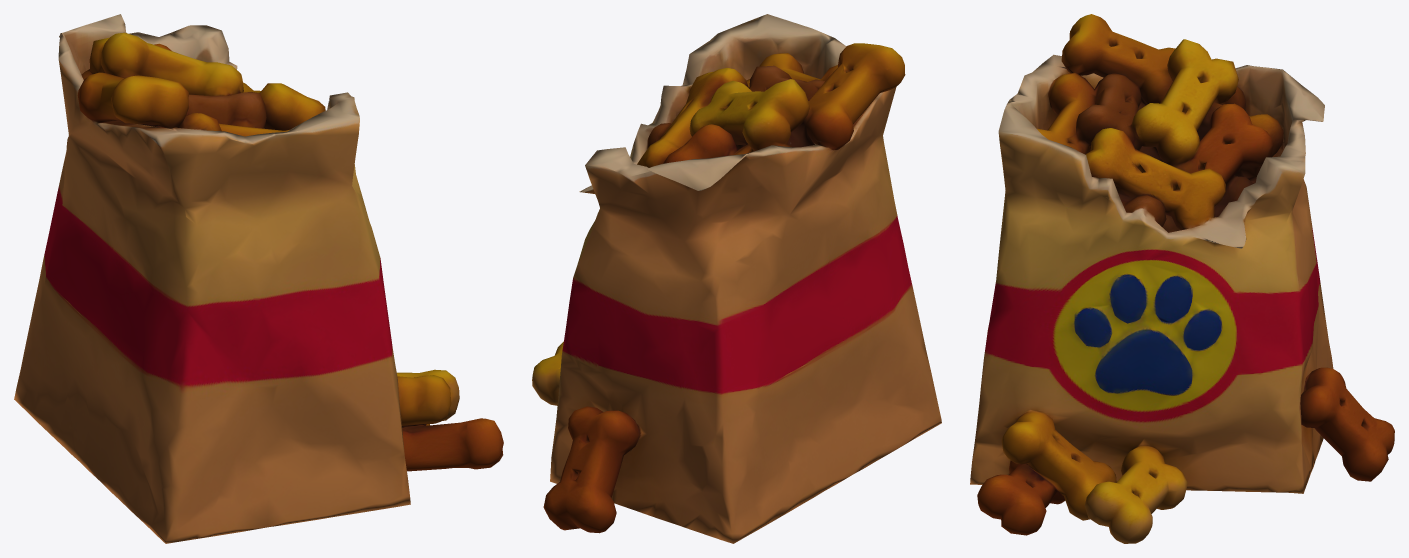
File: snacks.glb
The picture shows the model from 3 angles, left to right: view 1: azimuth 30°, elevation 25°; view 2: azimuth 150°, elevation 25°; view 3: azimuth 270°, elevation 25°; orthographic projection. The views are drawn at different scales.
Parts seen in each view (by area): view 1: tripo_node_ac6d1497-60a6-4bf1-a648-35bb602175b0; view 2: tripo_node_ac6d1497-60a6-4bf1-a648-35bb602175b0; view 3: tripo_node_ac6d1497-60a6-4bf1-a648-35bb602175b0.
Part boxes in pixels (left/top/right/bottom): tripo_node_ac6d1497-60a6-4bf1-a648-35bb602175b0: left=14, top=14, right=503, bottom=543; tripo_node_ac6d1497-60a6-4bf1-a648-35bb602175b0: left=532, top=14, right=941, bottom=543; tripo_node_ac6d1497-60a6-4bf1-a648-35bb602175b0: left=970, top=14, right=1394, bottom=543.
Size of the model in its own units: 0.8668 by 1 by 0.9887.
1 material, 1 textured.
